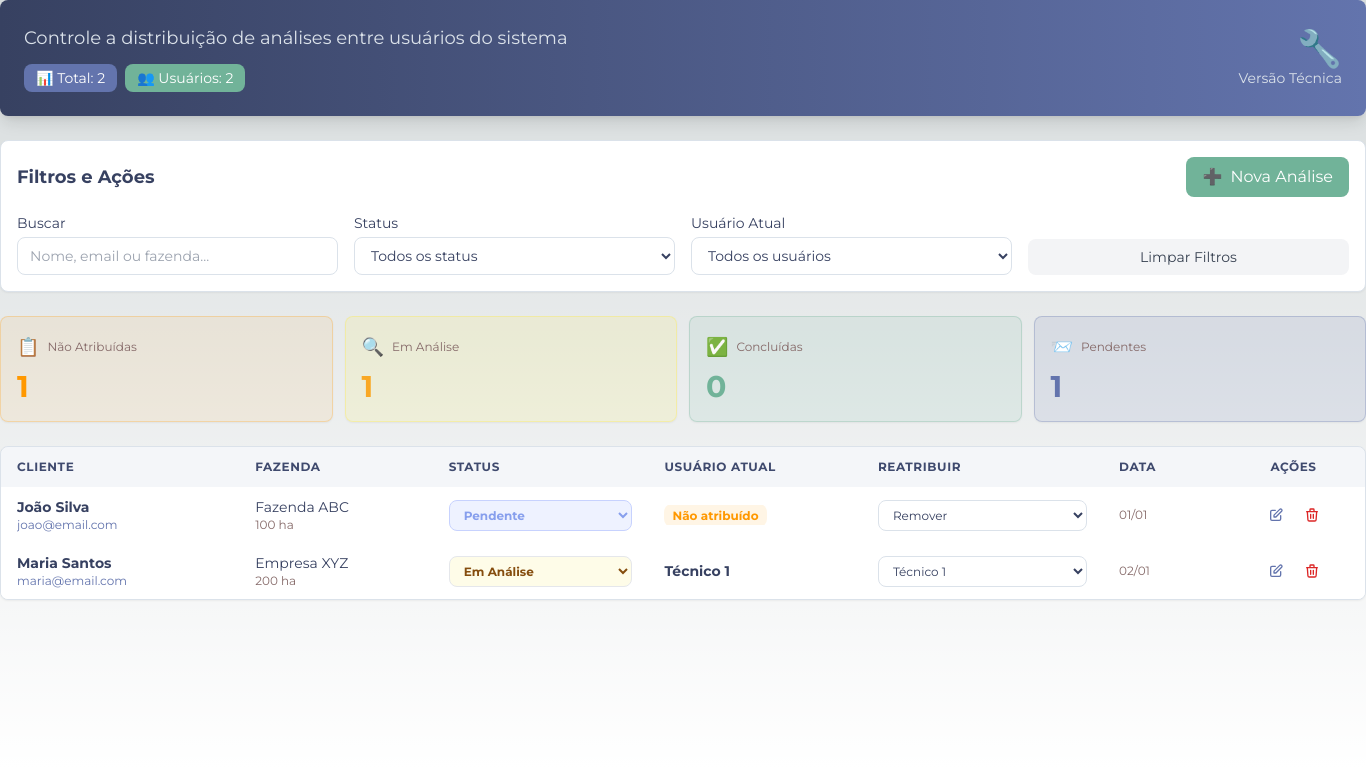
Test: AnalisesTecnicasManager › deve filtrar análises por termo de busca
Type "João" into the field with placeholder "Nome, email ou fazenda...".
click(178, 256); type("João")  # box x1=17 y1=237 x2=338 y2=275
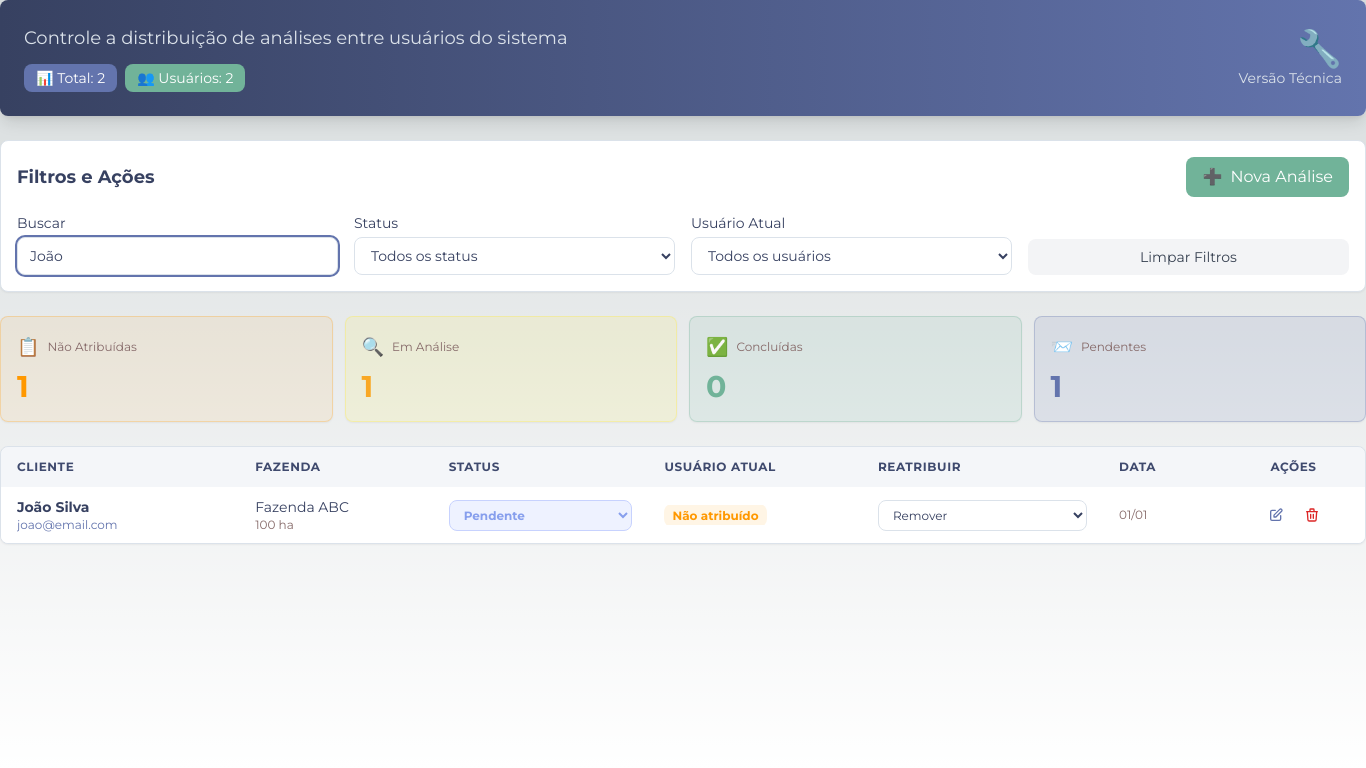
Check: the text "Maria Santos" is gone
